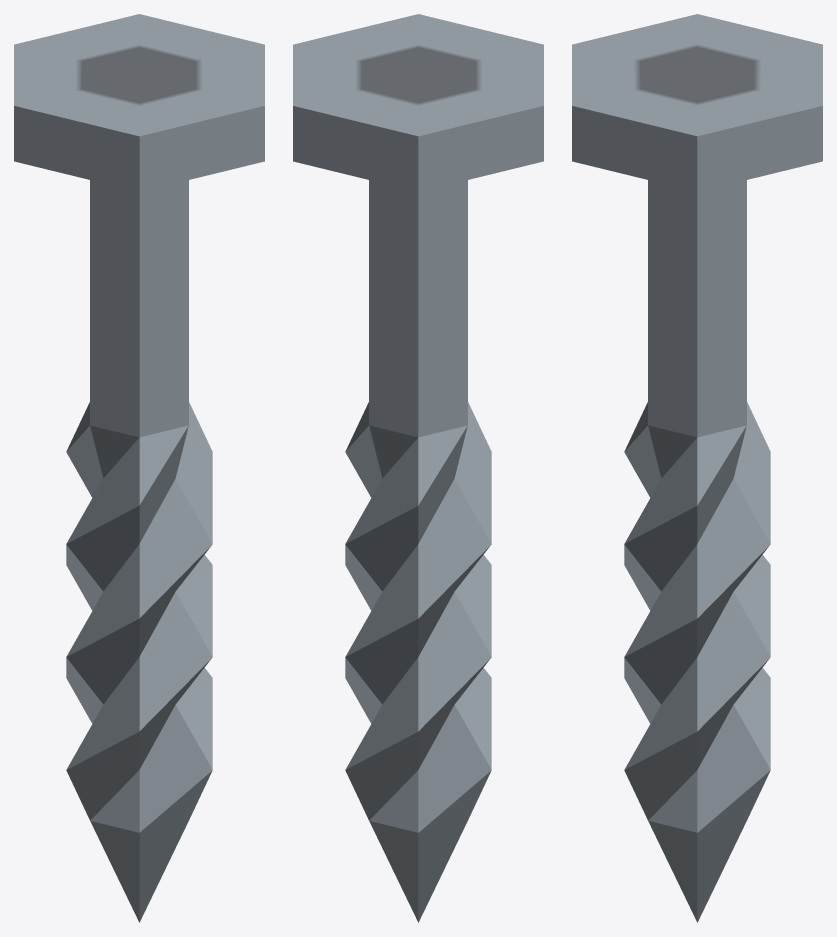
The model's file is SM_Item_Screw_02.glb.
3 renders of one model, left to right at view 1: azimuth 30°, elevation 25°; view 2: azimuth 150°, elevation 25°; view 3: azimuth 270°, elevation 25°, orthographic.
Visible parts, largest first — view 1: SM_Item_Screw_02; view 2: SM_Item_Screw_02; view 3: SM_Item_Screw_02.
Part boxes in pixels (x1,y1,x2,y2): SM_Item_Screw_02: [14, 14, 264, 922]; SM_Item_Screw_02: [293, 14, 543, 922]; SM_Item_Screw_02: [572, 14, 822, 922].
Bounding box in the file's own units: 0.0387 × 0.1251 × 0.0335.
1 material, 1 textured.
